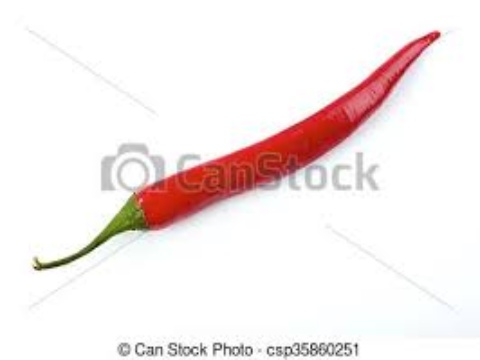Chilli: (37, 25, 455, 274)
